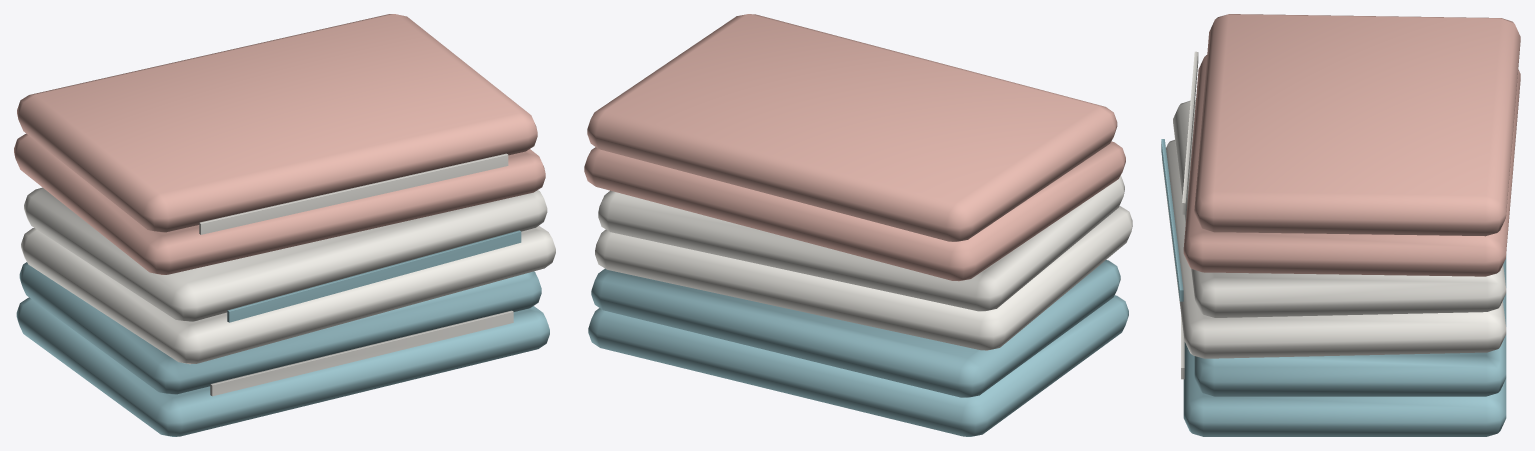
File: towelStack.glb
3 renders of one model, left to right at view 1: azimuth 30°, elevation 25°; view 2: azimuth 150°, elevation 25°; view 3: azimuth 270°, elevation 25°, orthographic. The views are drawn at different scales.
Parts seen in each view (by area): view 1: towelStack; view 2: towelStack; view 3: towelStack.
Part boxes in pixels (left/top/right/bottom): towelStack: left=14, top=14, right=555, bottom=436; towelStack: left=584, top=14, right=1132, bottom=436; towelStack: left=1161, top=14, right=1520, bottom=436.
Size of the model in its own units: 0.2679 by 0.1487 by 0.2007.
